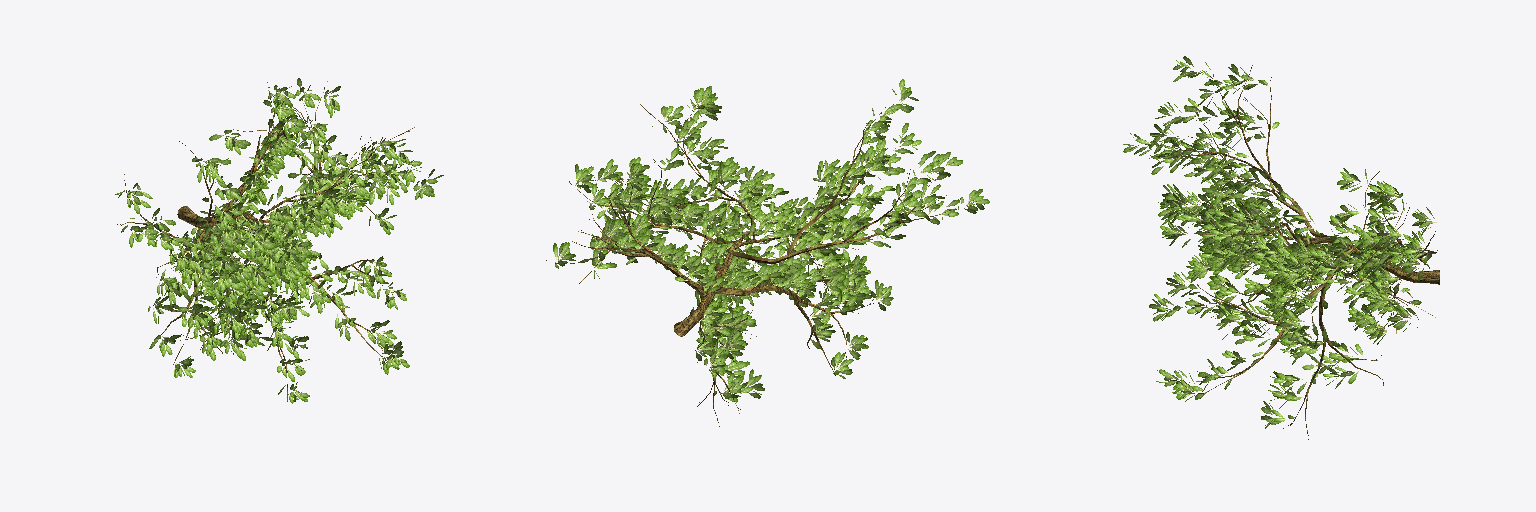
3 renders of one model, left to right at view 1: azimuth 30°, elevation 25°; view 2: azimuth 150°, elevation 25°; view 3: azimuth 270°, elevation 25°, orthographic.
Parts seen in each view (by area): view 1: Object_2, Object_4; view 2: Object_2, Object_4; view 3: Object_2, Object_4.
Part boxes in pixels (x1,y1,x2,y2): Object_2: (115,78,443,403); Object_4: (117,81,415,401); Object_2: (553,79,989,402); Object_4: (546,99,958,426); Object_2: (1123,56,1436,428); Object_4: (1156,65,1439,439).
Size of the model in its own units: 152 by 143 by 131.
Materials: 2 (2 with a texture image).